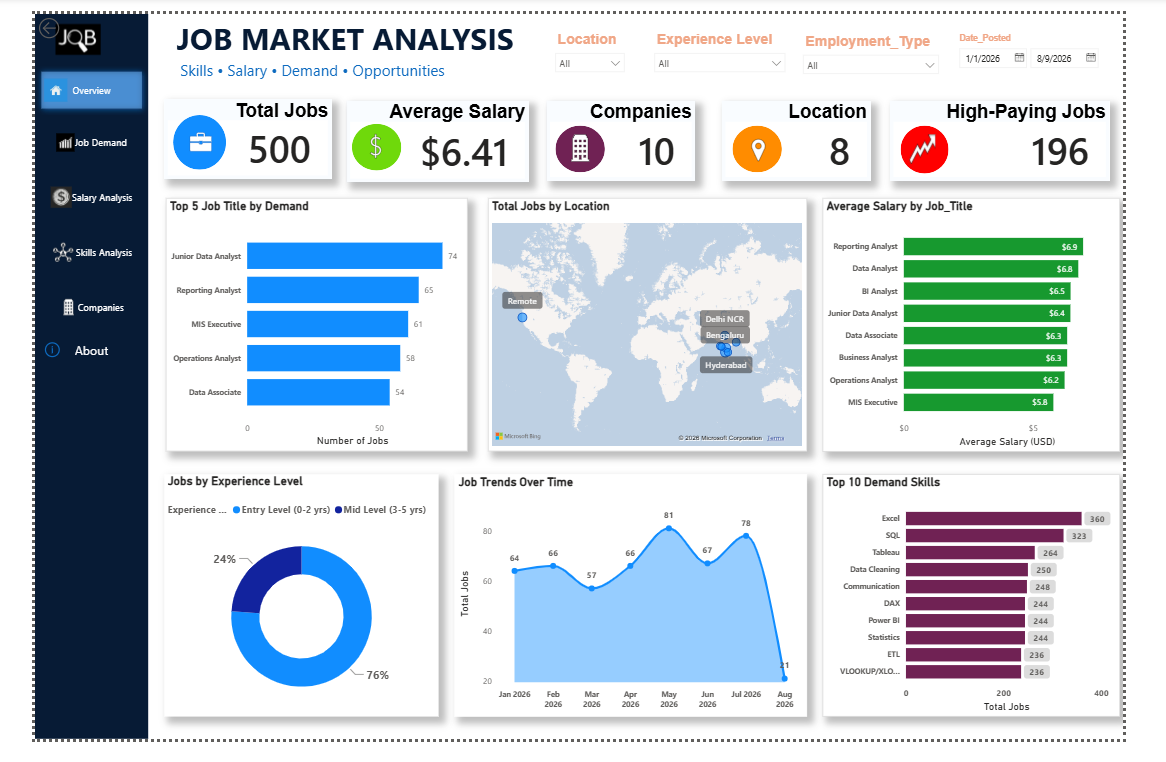

This screenshot's page, from the dashboard's own definition file:
{"tool":"powerbi","page":{"name":"Page 1","canvas":[1536,1024],"ordinal":0},"visuals":[{"type":"shape","box":[0,0,160,1024],"z":0},{"type":"actionButton","title":"Overview","box":[0,72,160,70],"z":1000},{"type":"actionButton","box":[24,0,112,72],"z":2000},{"type":"actionButton","box":[0,142,160,78],"z":3000},{"type":"actionButton","box":[0,220,160,78],"z":4000},{"type":"actionButton","box":[0,298,160,78],"z":5000},{"type":"actionButton","box":[0,376,160,78],"z":6000},{"type":"actionButton","box":[0,434,160,78],"z":7000},{"type":"textbox","box":[194.4,0,504.5,71.4],"z":8000},{"type":"textbox","box":[200,60,523.3,46.7],"z":9000},{"type":"slicer","fields":{"Values":["job_market.Location"]},"box":[723.5,17.2,122.5,82.5],"z":10000},{"type":"slicer","fields":{"Values":["job_market.Experience Level"]},"box":[863.7,17.2,210,83.3],"z":11000},{"type":"slicer","fields":{"Values":["job_market.Employment_Type"]},"box":[1072.9,19.7,216.7,83.3],"z":12000},{"type":"slicer","fields":{"Values":["job_market.Date_Posted"]},"box":[1289.4,19.7,227.5,87.5],"z":13000},{"type":"cardVisual","title":"Total Jobs","fields":{"Data":["job_market.Total Jobs"]},"box":[182.5,120,236.7,113.3],"z":14000},{"type":"cardVisual","title":"Average Salary","fields":{"Data":["job_market.Average Salary"]},"box":[440,122.5,257.5,115],"z":15000},{"type":"cardVisual","title":"Companies","fields":{"Data":["job_market.Total Companies"]},"box":[723.3,123.3,210,113.3],"z":16000},{"type":"cardVisual","title":"Location","fields":{"Data":["job_market.Total Locations"]},"box":[970,123.3,210,113.3],"z":17000},{"type":"cardVisual","title":"High-Paying Jobs","fields":{"Data":["job_market.High Paying Jobs"]},"box":[1206.7,123.3,310,113.3],"z":18000},{"type":"shape","box":[195,142.5,75,77.5],"z":19000},{"type":"image","box":[214.4,156.7,36.7,47.8],"z":20000},{"type":"shape","box":[446.2,153.8,70,66.2],"z":21000},{"type":"image","box":[461.4,167.1,37.5,38.8],"z":22000},{"type":"shape","box":[734.3,157.1,70,66.2],"z":23000},{"type":"image","box":[744,168,50,43.3],"z":24000},{"type":"shape","box":[986,158,70,66.2],"z":25000},{"type":"shape","box":[1222,158,68,68],"z":26000},{"type":"image","box":[999.1,170,43.6,44.5],"z":27000},{"type":"image","box":[1235,170,36.7,41.7],"z":28000},{"type":"clusteredBarChart","title":"Top 5 Job Title by Demand","fields":{"Category":["job_market.Job_Title"],"Y":["job_market.Total Jobs"]},"box":[183.8,260,426.2,357.5],"z":29000},{"type":"actionButton","box":[0,0,100,40],"z":30000},{"type":"map","fields":{"Category":["job_market.Location"],"Size":["job_market.Total Jobs"]},"box":[640,260,450,357.5],"z":31000},{"type":"clusteredBarChart","fields":{"Category":["job_market.Job_Title"],"Y":["job_market.Average Salary"]},"box":[1112,260,420,358],"z":32000},{"type":"donutChart","title":" Jobs by Experience Level","fields":{"Category":["job_market.Experience Level"],"Y":["job_market.Total Jobs"]},"box":[182.5,650,387.5,342.5],"z":33000},{"type":"lineChart","title":"Job Trends Over Time","fields":{"Category":["Date Table.Month"],"Y":["job_market.Total Jobs"]},"box":[592.5,650,497.5,342.5],"z":34000},{"type":"clusteredBarChart","title":"Top 10 Demand Skills","fields":{"Category":["job_market.Skills_Required"],"Y":["job_market.Total Jobs"]},"box":[1112.5,650,420,342.5],"z":35000}]}

Visuals, with their boxes in screenshot pixels (x1, y1, x2, y2), scaled from the page's 1536x1024 canvas onto the 1166x762 screenshot:
shape: [0,0,121,761]
"Overview" actionButton: [0,54,121,106]
actionButton: [18,0,103,54]
actionButton: [0,106,121,164]
actionButton: [0,164,121,222]
actionButton: [0,222,121,280]
actionButton: [0,280,121,338]
actionButton: [0,323,121,381]
textbox: [148,0,531,53]
textbox: [152,45,549,79]
slicer - job_market.Location: [549,13,642,74]
slicer - job_market.Experience Level: [656,13,815,75]
slicer - job_market.Employment_Type: [814,15,979,77]
slicer - job_market.Date_Posted: [979,15,1152,80]
"Total Jobs" cardVisual: [139,89,318,174]
"Average Salary" cardVisual: [334,91,529,177]
"Companies" cardVisual: [549,92,708,176]
"Location" cardVisual: [736,92,896,176]
"High-Paying Jobs" cardVisual: [916,92,1151,176]
shape: [148,106,205,164]
image: [163,117,191,152]
shape: [339,114,392,164]
image: [350,124,379,153]
shape: [557,117,611,166]
image: [565,125,603,157]
shape: [748,118,802,167]
shape: [928,118,979,168]
image: [758,127,792,160]
image: [938,127,965,158]
"Top 5 Job Title by Demand" clusteredBarChart: [140,193,463,460]
actionButton: [0,0,76,30]
map - job_market.Location x job_market.Total Jobs: [486,193,827,460]
clusteredBarChart - job_market.Job_Title x job_market.Average Salary: [844,193,1163,460]
" Jobs by Experience Level" donutChart: [139,484,433,739]
"Job Trends Over Time" lineChart: [450,484,827,739]
"Top 10 Demand Skills" clusteredBarChart: [845,484,1163,739]
